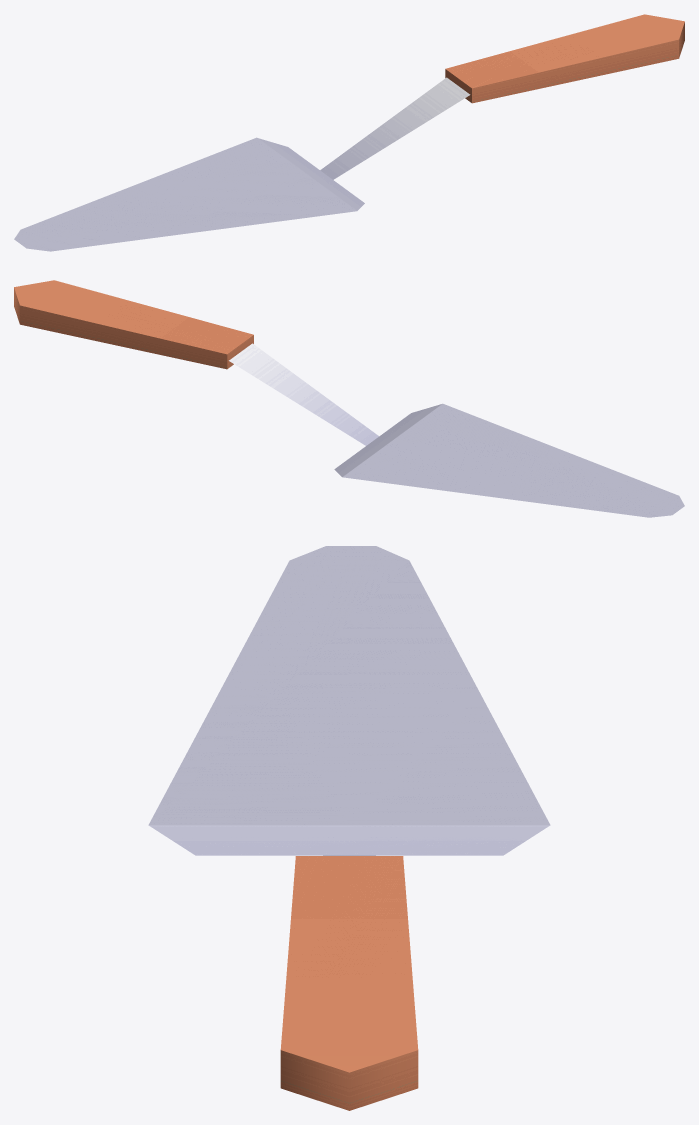
File: cake_slicer.glb
3 views of the same model, one above another, from view 1: azimuth 30°, elevation 25°; view 2: azimuth 150°, elevation 25°; view 3: azimuth 270°, elevation 25° (orthographic). The views are drawn at different scales.
Visible parts, largest first — view 1: cake-slicer; view 2: cake-slicer; view 3: cake-slicer.
Part boxes in pixels (left/top/right/bottom): cake-slicer: left=14, top=14, right=684, bottom=251; cake-slicer: left=14, top=280, right=684, bottom=517; cake-slicer: left=148, top=546, right=550, bottom=1110.
Size of the model in its own units: 0.7246 by 0.0692 by 0.19.
1 material, 1 textured.
